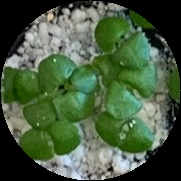Basil: (43, 54, 92, 120), (109, 62, 158, 116), (94, 16, 148, 63), (11, 73, 57, 126), (23, 122, 79, 163), (97, 114, 154, 153), (70, 54, 115, 92)
